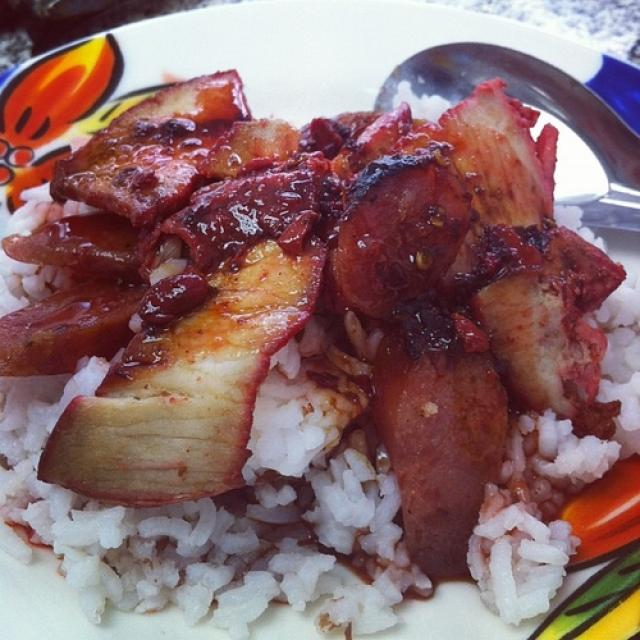猪肉菜式: (19, 69, 631, 621)
